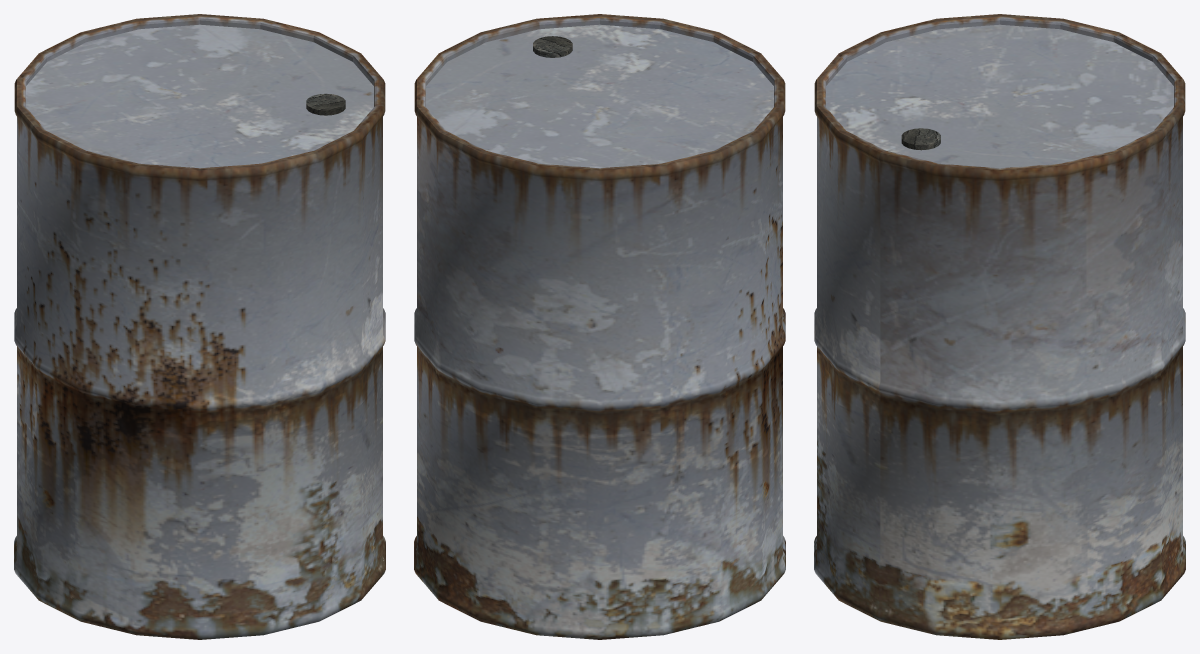
Rendered from barrel.FBX.
3 views of the same model, side by side, from view 1: azimuth 30°, elevation 25°; view 2: azimuth 150°, elevation 25°; view 3: azimuth 270°, elevation 25° (orthographic).
Parts seen in each view (by area): view 1: Cylinder001; view 2: Cylinder001; view 3: Cylinder001.
Part boxes in pixels (x1,y1,x2,y2): Cylinder001: (14, 14, 385, 639); Cylinder001: (414, 14, 785, 639); Cylinder001: (814, 14, 1185, 639).
Size of the model in its own units: 34.07 by 46.67 by 33.56.
